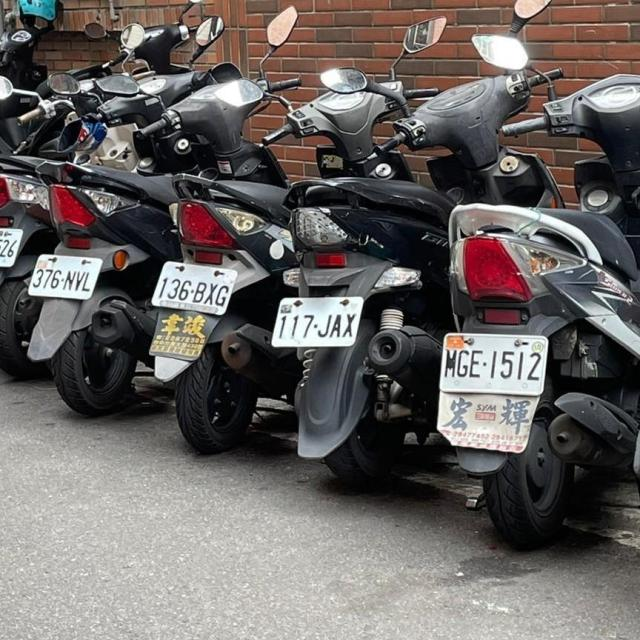W: (435, 330, 553, 398), (146, 255, 242, 318), (270, 292, 369, 352), (26, 250, 108, 304), (0, 218, 28, 269)
